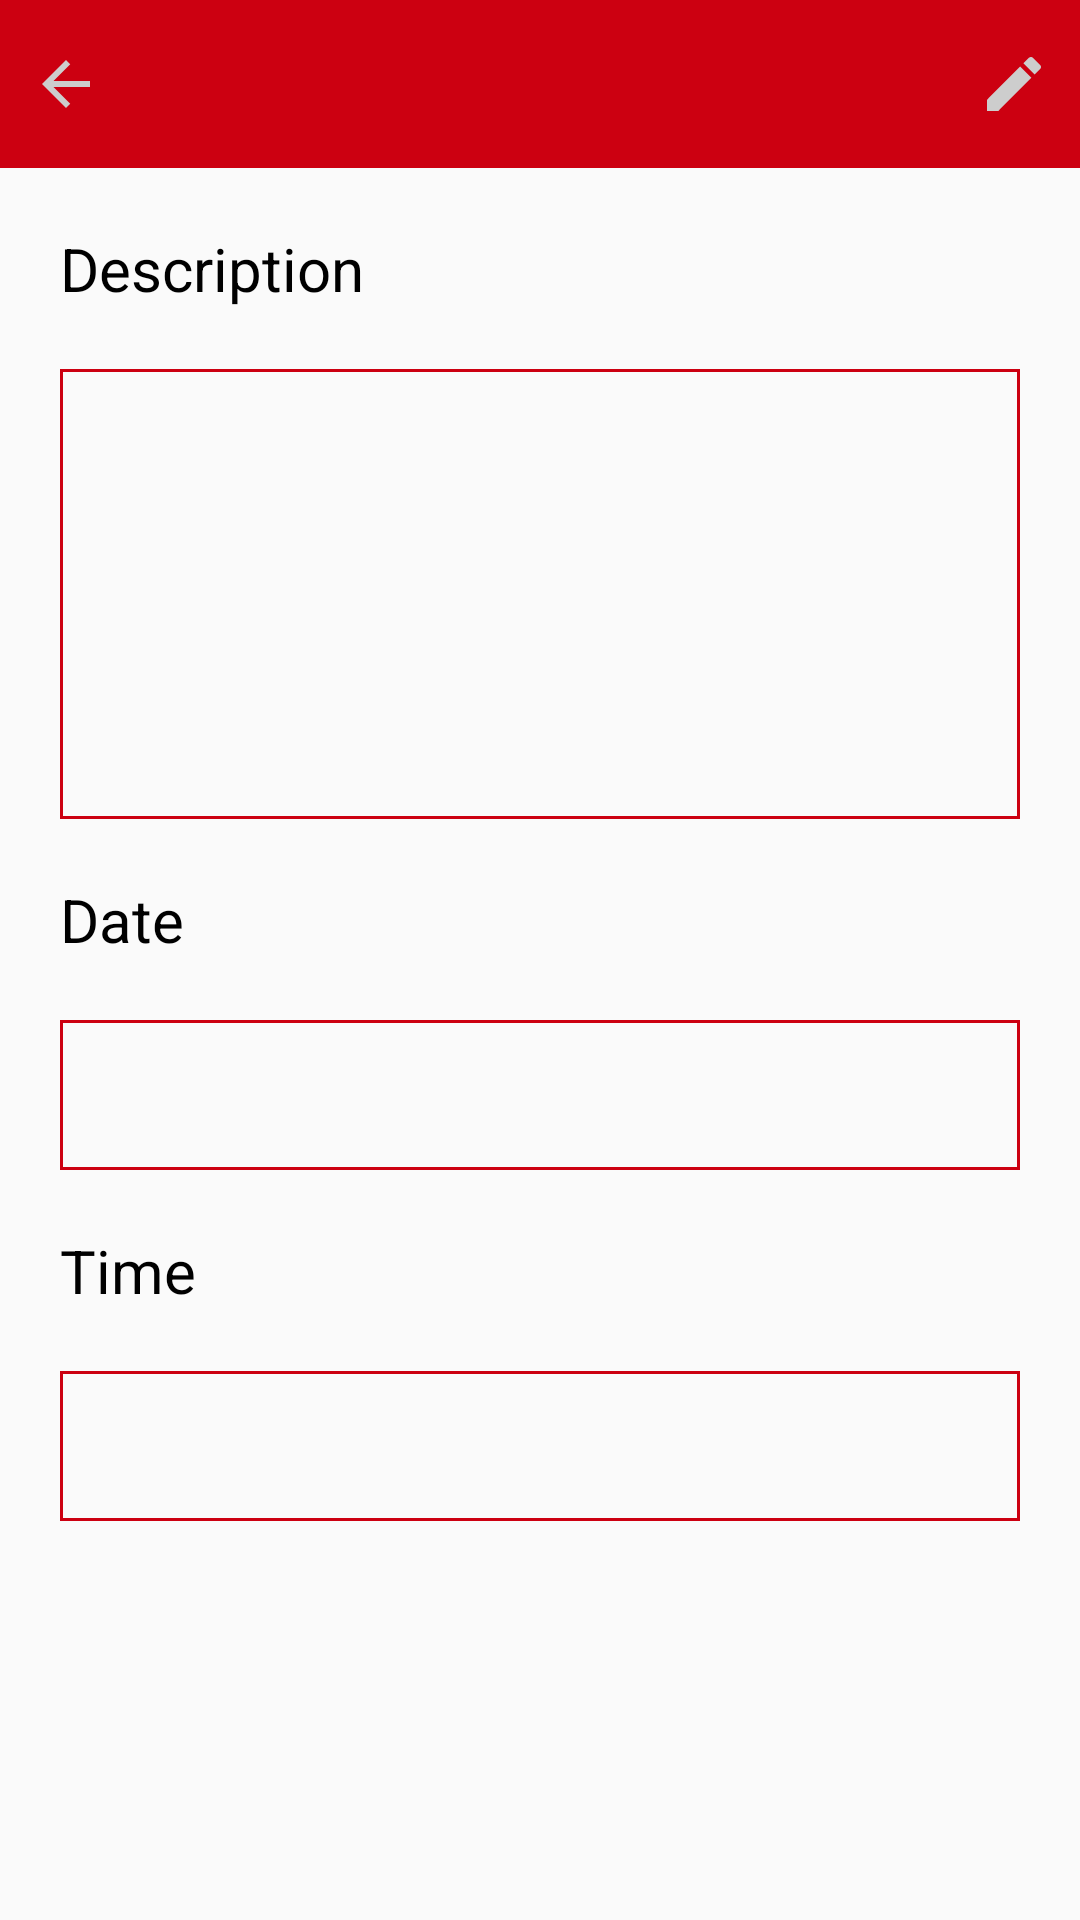

Point at icon controls on the screen. Image size 1080x1920, points as point (x, y).
back: point (66, 84)
edit: point (1014, 84)
